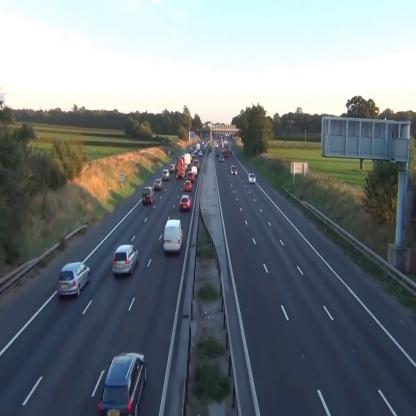car: (98, 351, 147, 416), (57, 262, 91, 297), (112, 244, 139, 276), (142, 186, 155, 204), (180, 195, 191, 213), (154, 179, 163, 190), (162, 169, 170, 181), (248, 172, 256, 183), (184, 181, 192, 191), (231, 165, 237, 175), (188, 172, 194, 180)
lorry: (163, 219, 183, 254), (176, 157, 186, 178)
